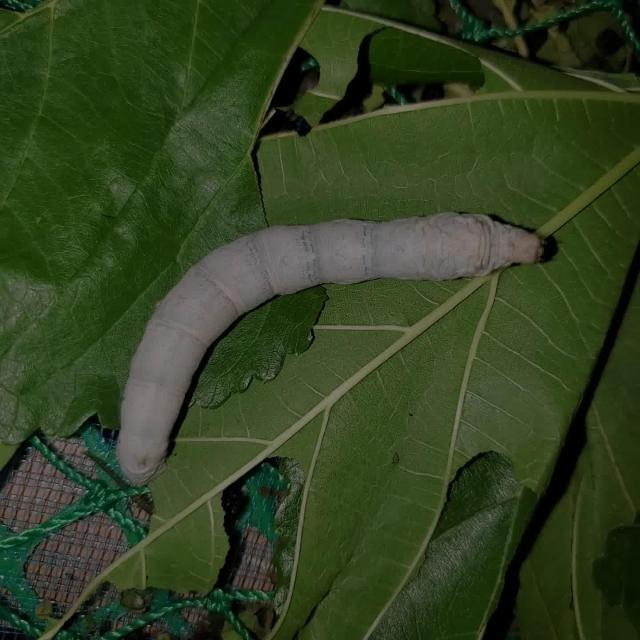Healthy: (101, 176, 565, 486)
